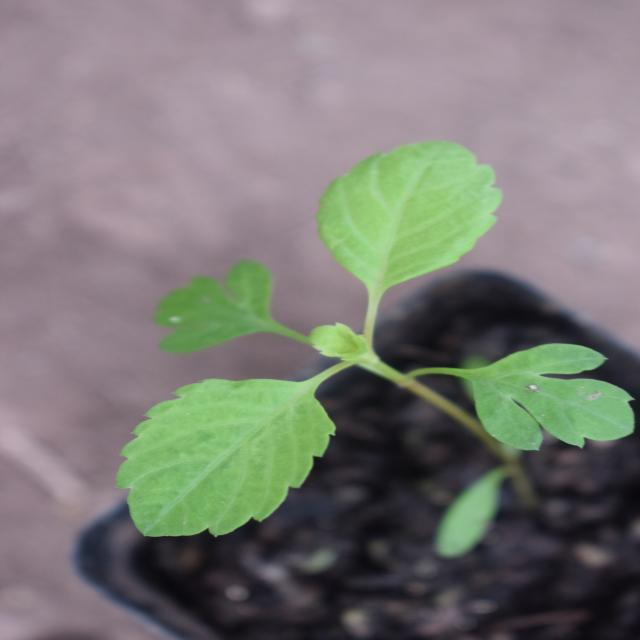Bidens pilosa: (135, 14, 550, 536)
